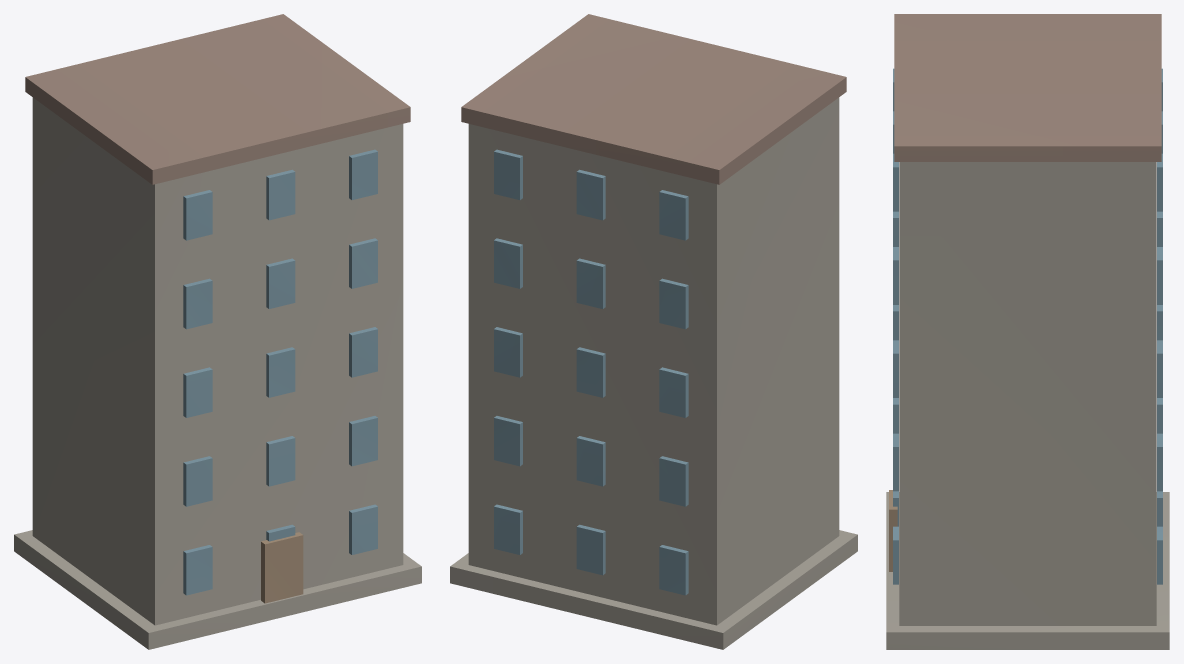
Rendered from apartment-05.glb.
3 renders of one model, left to right at view 1: azimuth 30°, elevation 25°; view 2: azimuth 150°, elevation 25°; view 3: azimuth 270°, elevation 25°, orthographic. The views are drawn at different scales.
Visible parts, largest first — view 1: world; view 2: world; view 3: world.
Boxes of the visible parts, x1=… form: world: x1=14, y1=14, x2=421, y2=649; world: x1=450, y1=14, x2=857, y2=649; world: x1=886, y1=14, x2=1169, y2=649.
Size of the model in its own units: 1.35 by 2.25 by 1.15.
